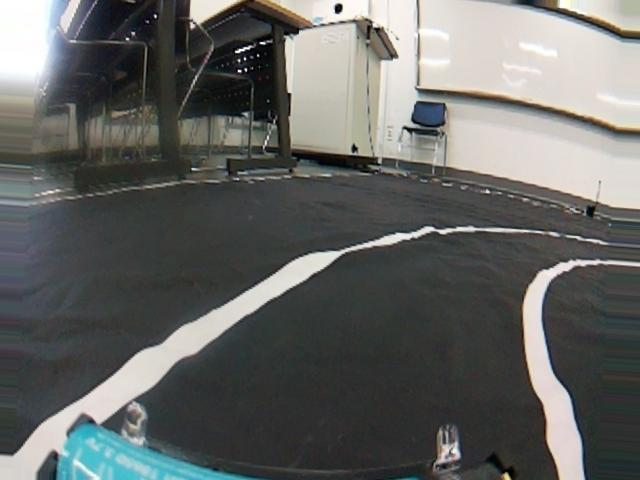right: (4, 221, 640, 479)
